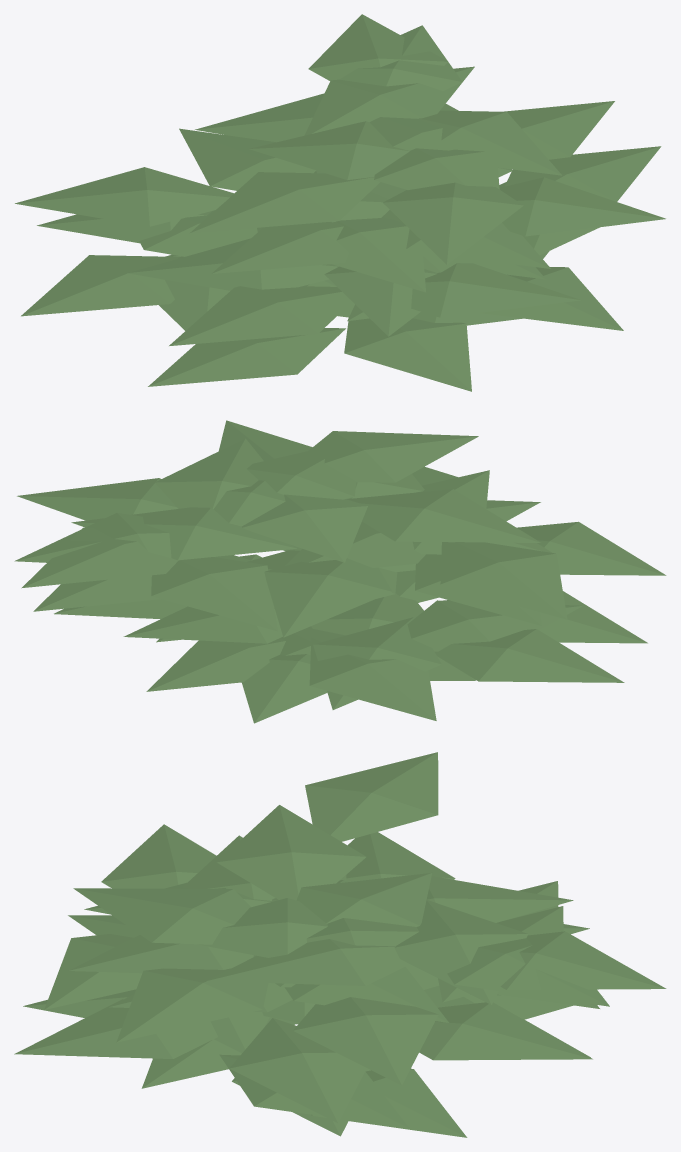
File: v03_shrub_lod1.fbx
The picture shows the model from 3 angles, top to bottom: view 1: azimuth 30°, elevation 25°; view 2: azimuth 150°, elevation 25°; view 3: azimuth 270°, elevation 25°; orthographic projection. The views are drawn at different scales.
Parts seen in each view (by area): view 1: v03_shrub.004; view 2: v03_shrub.004; view 3: v03_shrub.004.
Boxes of the visible parts, x1,y1,x2,y2 form: v03_shrub.004: (15,14,665,391); v03_shrub.004: (14,420,666,723); v03_shrub.004: (14,752,666,1137).
Size of the model in its own units: 6058 by 7170 by 1326.
